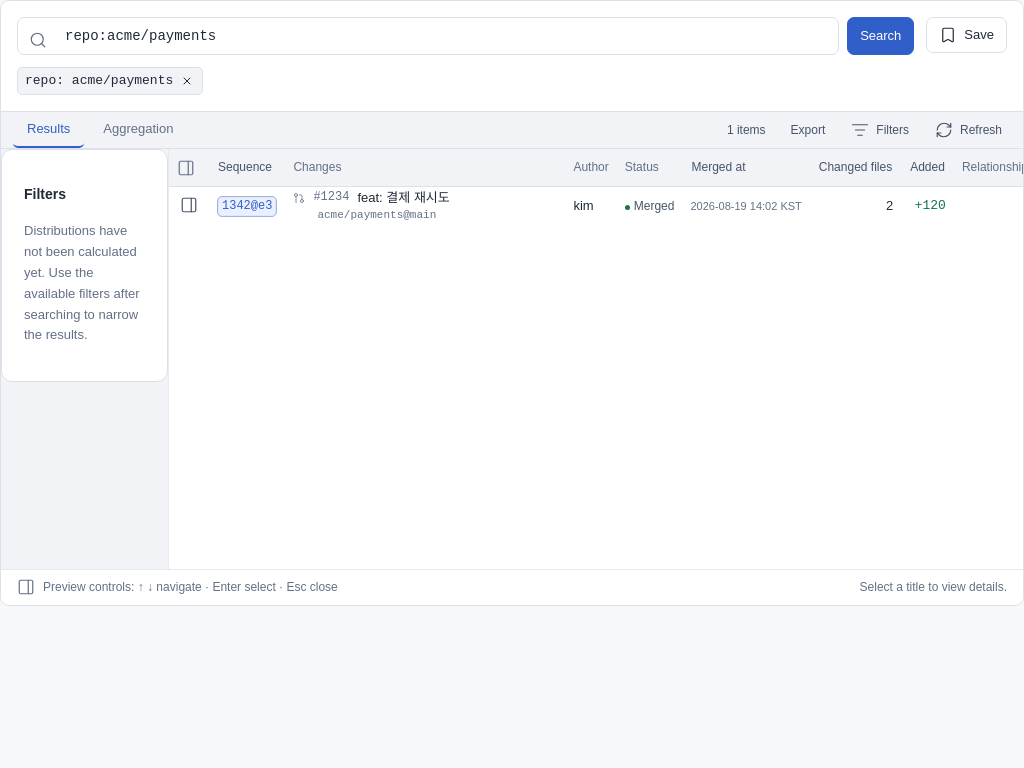
Test: 미리보기의 관계 요약 (CR-093, QA-W001-24) › 요약이 없으면 「미확인」이라고 말한다
Click the button named "#1234 Preview". click: [189, 205]
box: [177,193,201,217]
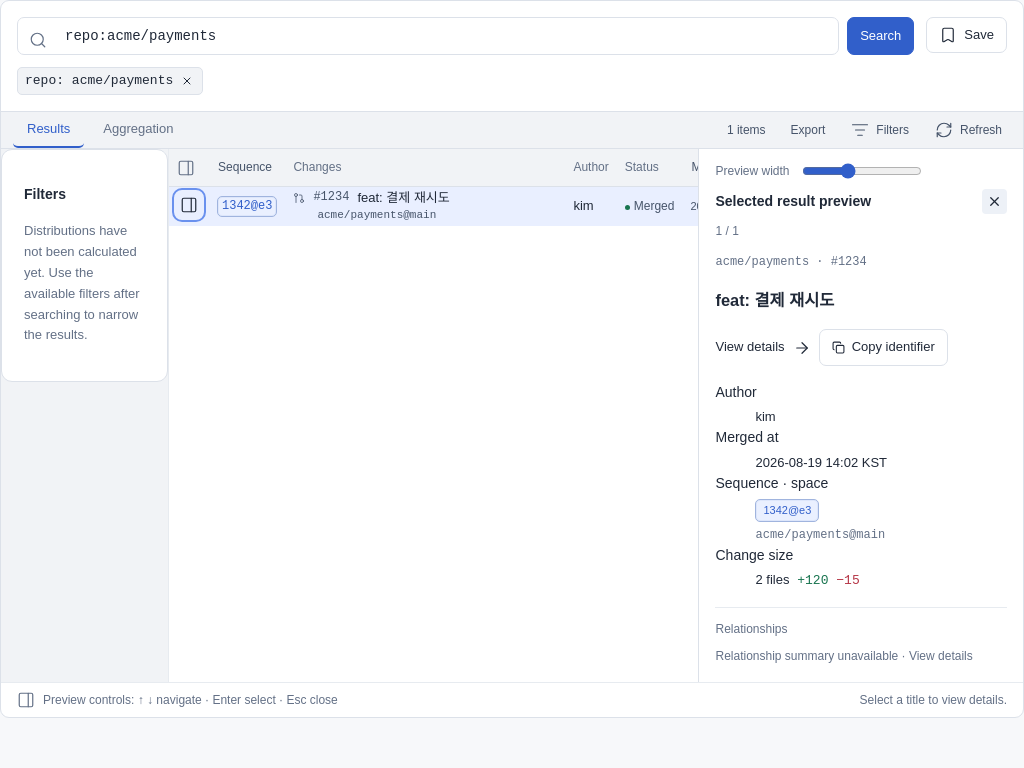
Now the element with test id "preview-relations" shows "Relationship summary unavailable", box [716,649,973,663]
